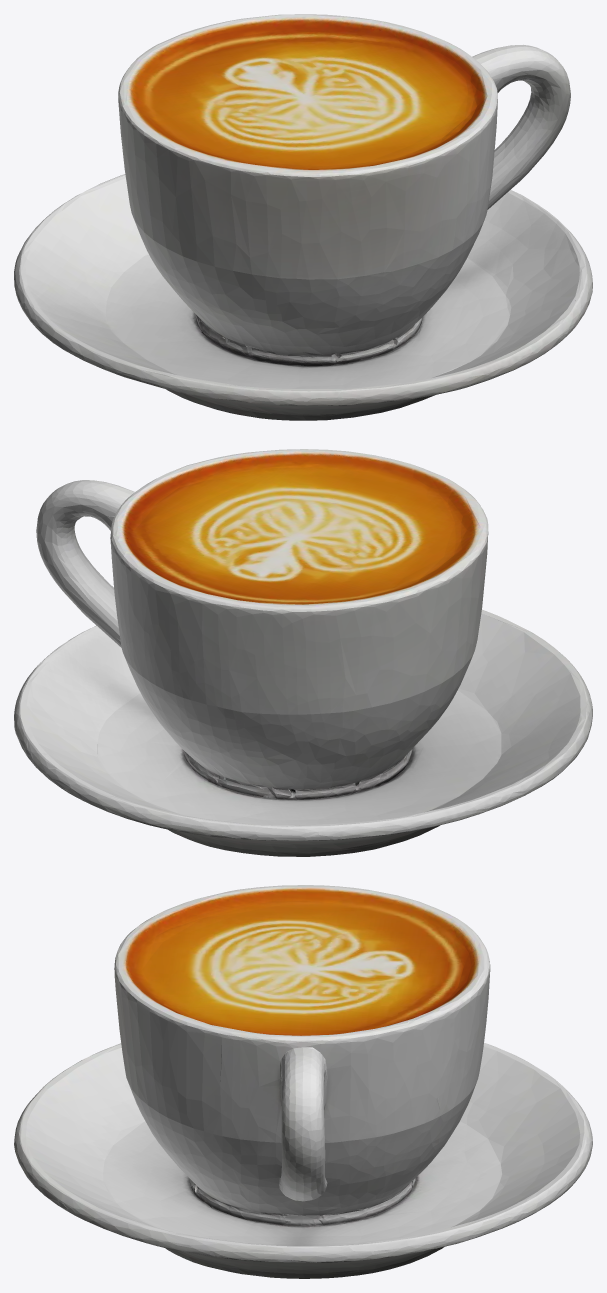
Rendered from drink_coffee_latte.glb.
3 views of the same model, one above another, from view 1: azimuth 30°, elevation 25°; view 2: azimuth 150°, elevation 25°; view 3: azimuth 270°, elevation 25° (orthographic). The views are drawn at different scales.
Visible parts, largest first — view 1: geometry_0; view 2: geometry_0; view 3: geometry_0.
Boxes of the visible parts, x1,y1,x2,y2 form: geometry_0: (14,14,592,420); geometry_0: (14,449,592,856); geometry_0: (14,885,592,1278).
Size of the model in its own units: 0.999 by 0.4775 by 0.9973.
Materials: 1 (1 with a texture image).
